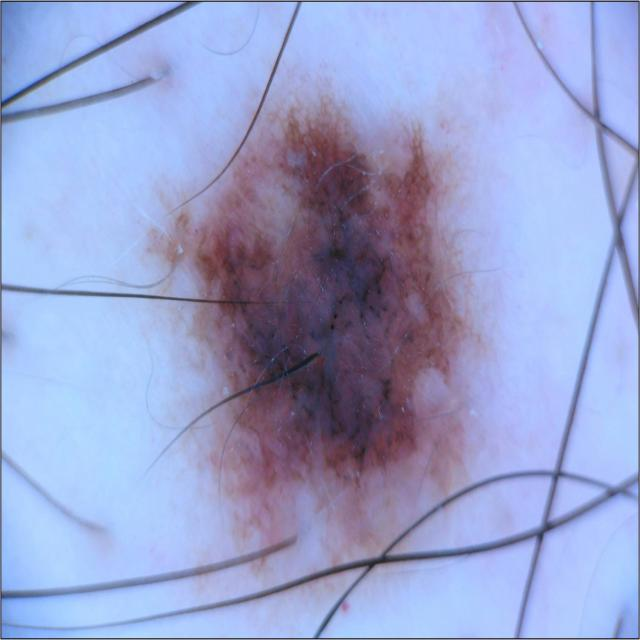Benign: (146, 92, 488, 576)
